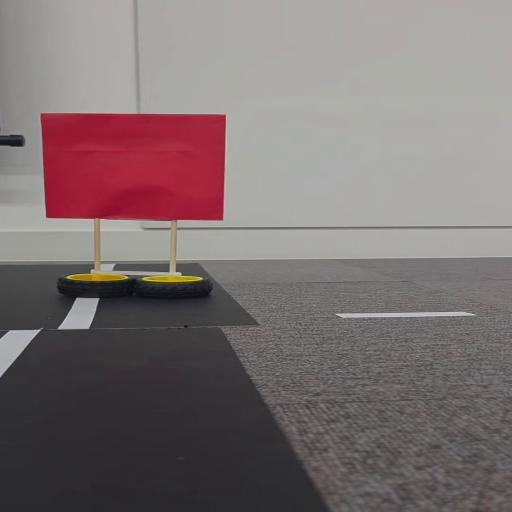Sign_A: (38, 105, 250, 302)
